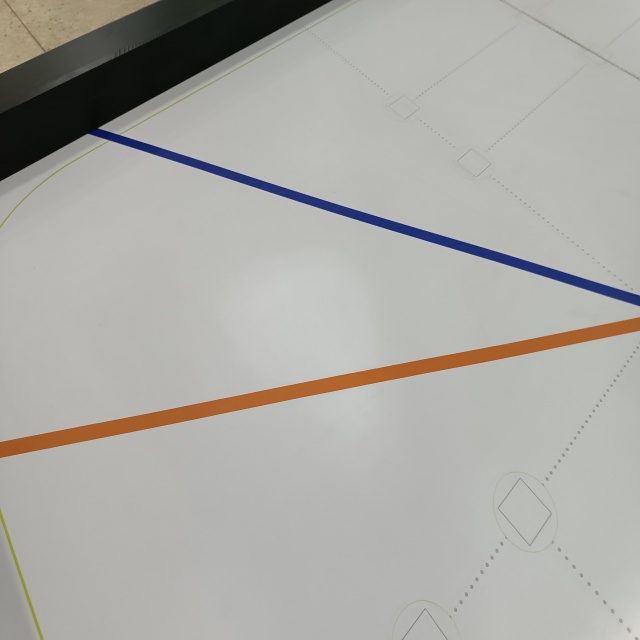blue line: (83, 125, 640, 312)
orange line: (0, 312, 640, 468)
